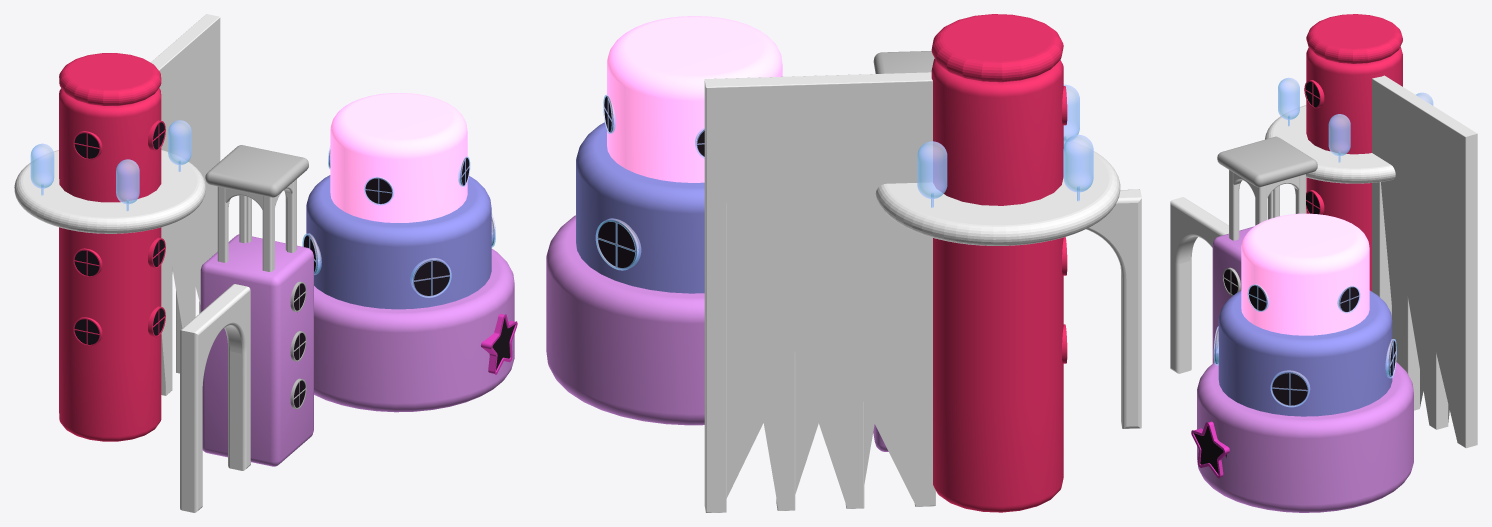
Rendered from house2.fbx.
The picture shows the model from 3 angles, left to right: view 1: azimuth 30°, elevation 25°; view 2: azimuth 150°, elevation 25°; view 3: azimuth 270°, elevation 25°; orthographic projection. The views are drawn at different scales.
Visible parts, largest first — view 1: Cylinder_Tower, Cylinder_1, Cube_6, Cylinder_5, Cylinder_2_2, Archway, Arch_4, Circle_Garden, Roof, Column_2, Arch_2, glass_17 (+7 smaller); view 2: Archway, Cylinder_Tower, Cylinder_1, Cylinder_2_2, Cylinder_5, Circle_Garden, Roof, Arch_4, Capsule_4, Capsule_3, glass_16, Column_2 (+1 smaller); view 3: Archway, Cylinder_1, Cylinder_5, Cylinder_2_2, Cylinder_Tower, Arch_4, Roof, Circle_Garden, Column_2, Cube_6, glass_14, Capsule_2 (+8 smaller).
Boxes of the visible parts, bbox=[...] form: Cylinder_Tower: bbox=[59, 88, 161, 441]; Cylinder_1: bbox=[314, 249, 514, 412]; Cube_6: bbox=[200, 234, 313, 466]; Cylinder_5: bbox=[306, 175, 491, 309]; Cylinder_2_2: bbox=[330, 93, 467, 222]; Archway: bbox=[151, 14, 220, 395]; Arch_4: bbox=[180, 284, 250, 512]; Circle_Garden: bbox=[14, 150, 205, 233]; Roof: bbox=[59, 53, 161, 105]; Column_2: bbox=[205, 145, 308, 197]; Arch_2: bbox=[217, 186, 251, 262]; glass_17: bbox=[413, 260, 449, 296]; Archway: bbox=[704, 72, 935, 512]; Cylinder_Tower: bbox=[931, 58, 1063, 512]; Cylinder_1: bbox=[546, 215, 704, 425]; Cylinder_2_2: bbox=[607, 16, 782, 182]; Cylinder_5: bbox=[576, 122, 704, 293]; Circle_Garden: bbox=[875, 141, 1120, 245]; Roof: bbox=[931, 14, 1063, 82]; Arch_4: bbox=[1086, 189, 1141, 428]; Capsule_4: bbox=[1063, 134, 1093, 192]; Capsule_3: bbox=[917, 141, 947, 198]; glass_16: bbox=[597, 220, 636, 268]; Column_2: bbox=[873, 51, 934, 73]; Archway: bbox=[1372, 75, 1477, 448]; Cylinder_1: bbox=[1197, 362, 1413, 512]; Cylinder_5: bbox=[1218, 290, 1392, 416]; Cylinder_2_2: bbox=[1241, 213, 1369, 335]; Cylinder_Tower: bbox=[1306, 47, 1402, 291]; Arch_4: bbox=[1170, 197, 1228, 373]; Roof: bbox=[1306, 14, 1402, 63]; Circle_Garden: bbox=[1265, 105, 1395, 183]; Column_2: bbox=[1217, 136, 1317, 187]; Cube_6: bbox=[1212, 226, 1253, 363]; glass_14: bbox=[1272, 372, 1308, 405]; Capsule_2: bbox=[1328, 114, 1350, 156].
Bounding box in the file's own units: 675 × 530 × 430.
